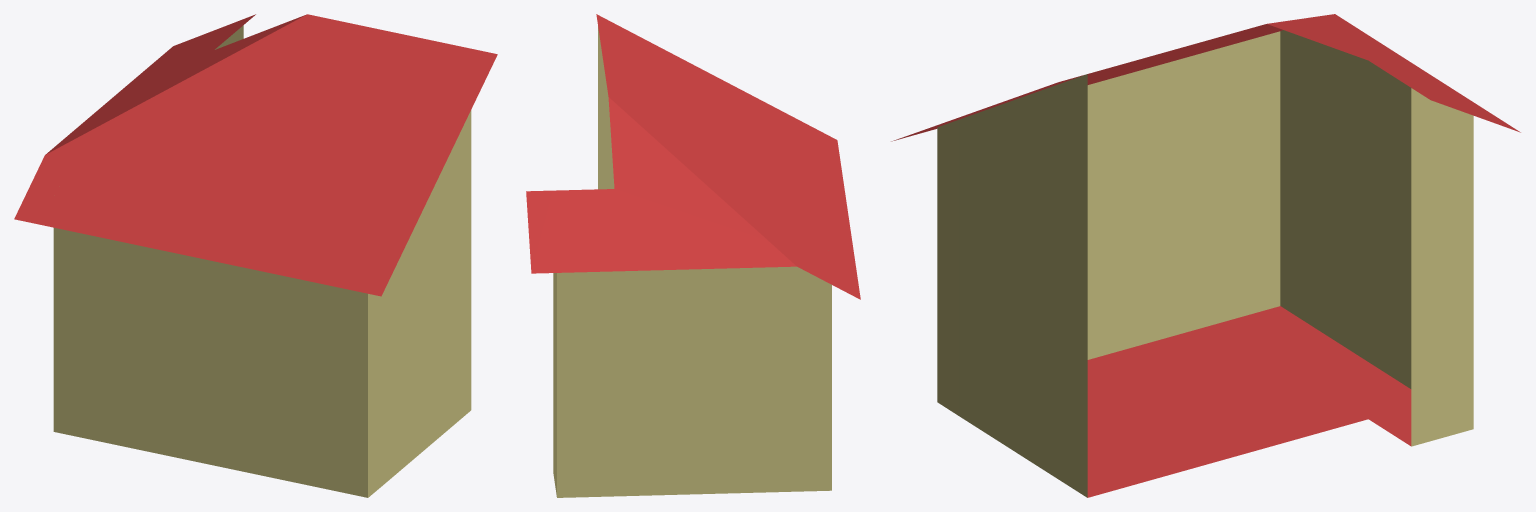
3 renders of one model, left to right at view 1: azimuth 30°, elevation 25°; view 2: azimuth 150°, elevation 25°; view 3: azimuth 270°, elevation 25°, orthographic. The views are drawn at different scales.
Bounding box in the file's own units: 11.28 × 13.68 × 10.12.
